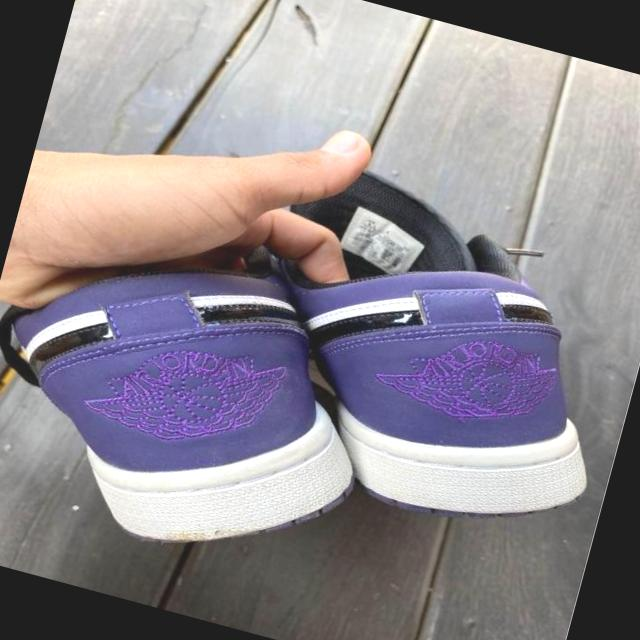nike_fake_jordan: (0, 198, 405, 596), (288, 234, 640, 555)
